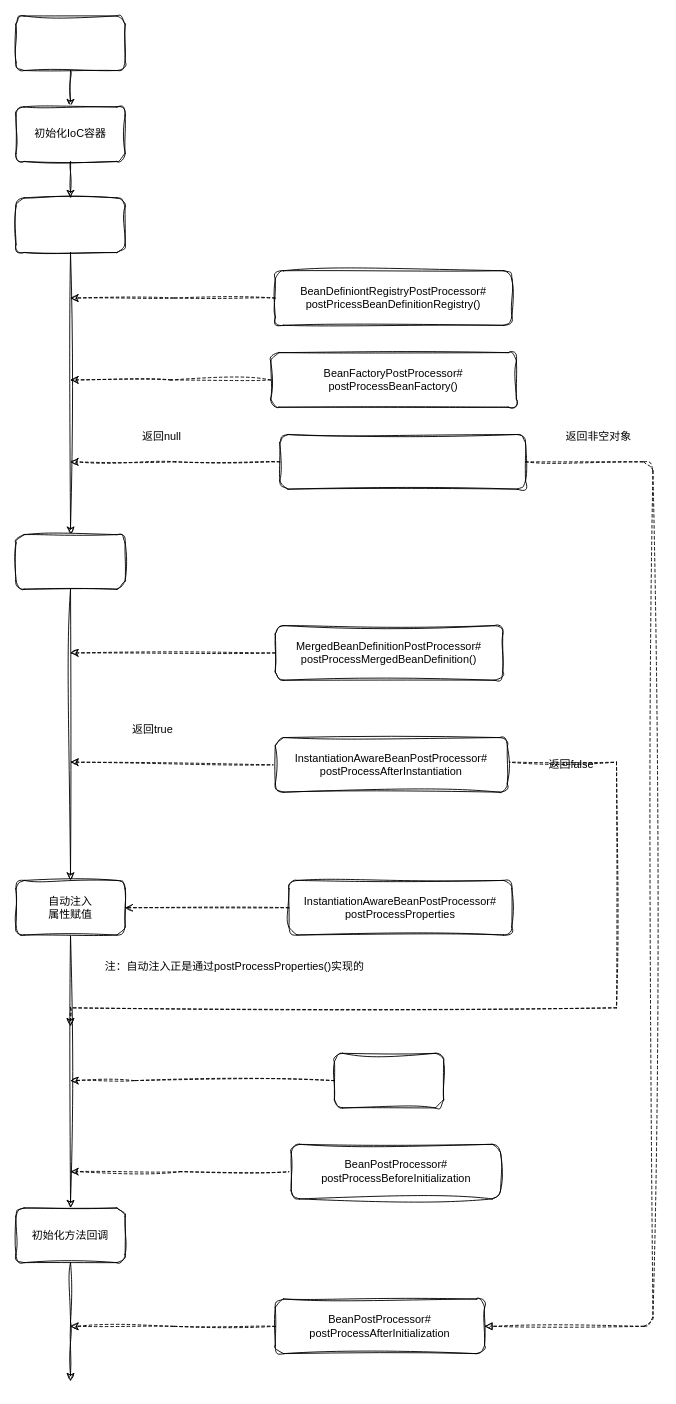
The diagram is 676 pixels wide and 1404 high, and some of its shapes have lost their labels. The shapes that lost their labels are listed below. From the top down, each one's centre as x and y in pixels, then its label:
point 70,43: 程序启动
point 70,225: 解析配置文件 加载配置类 注册BeanDefinition
point 402,461: InstantiationAwareBeanPostProcessor# postProcessBeforeInstantiation
point 70,561: Bean的实例化
point 389,1080: Aware
